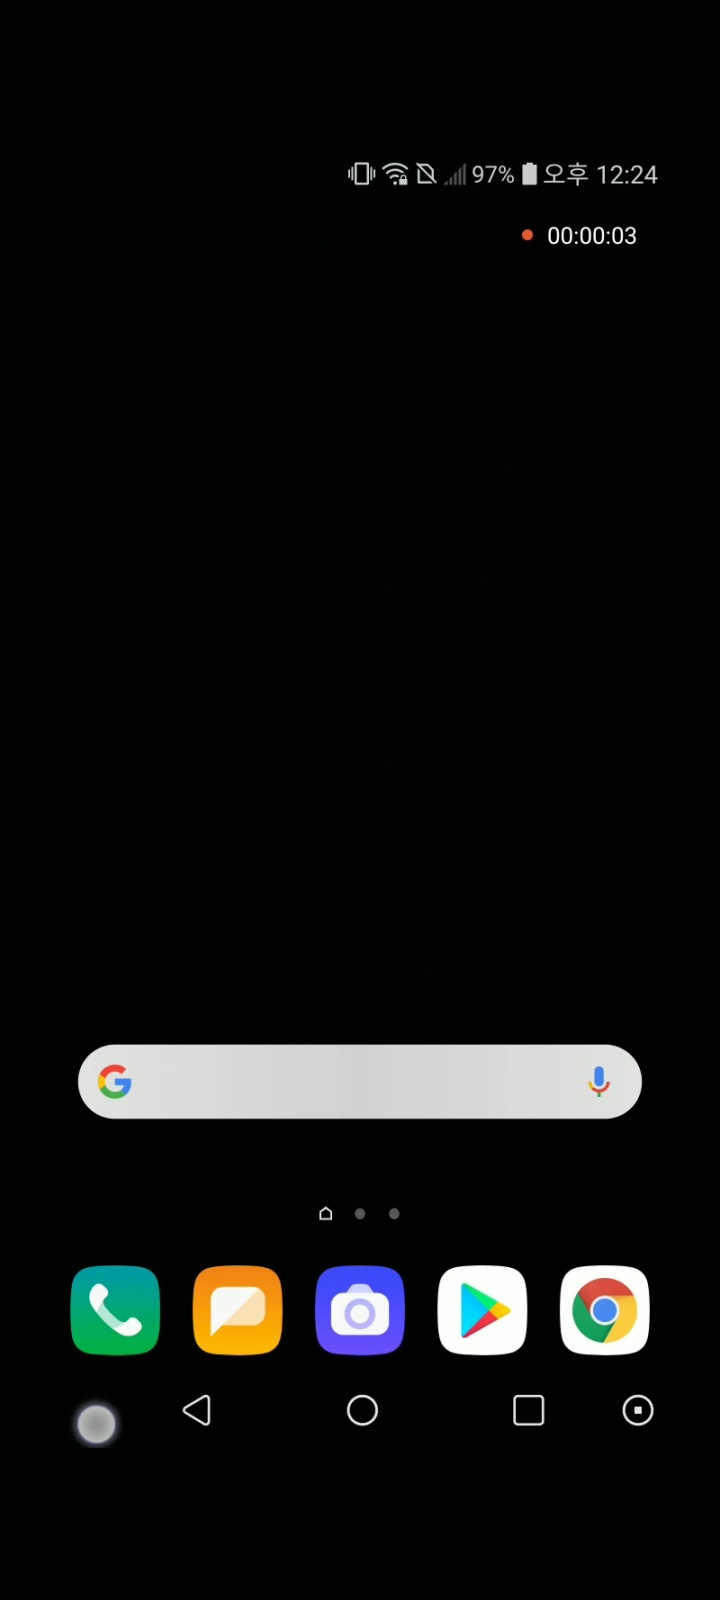Cursor: (75, 1403, 120, 1448)
